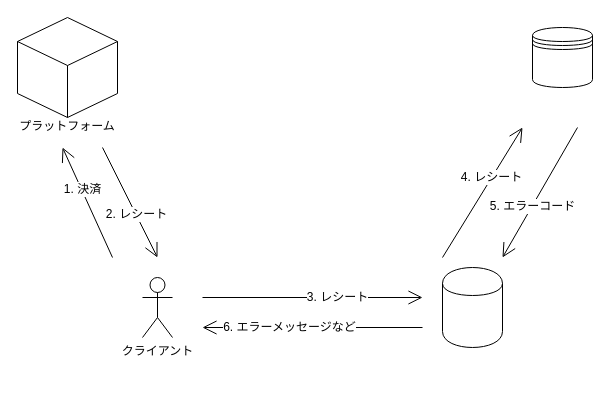
Some shapes in this 610 by 395 pixel diagram are drawn without their labels. The centre of each missing label's shape, as x and y in pixels:
API サーバー: point 472,307
課金 サーバー: point 562,57
